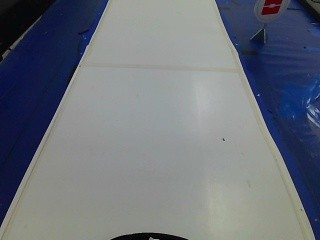company: (253, 0, 289, 24)
